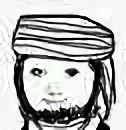dragon: (29, 66, 81, 104)
